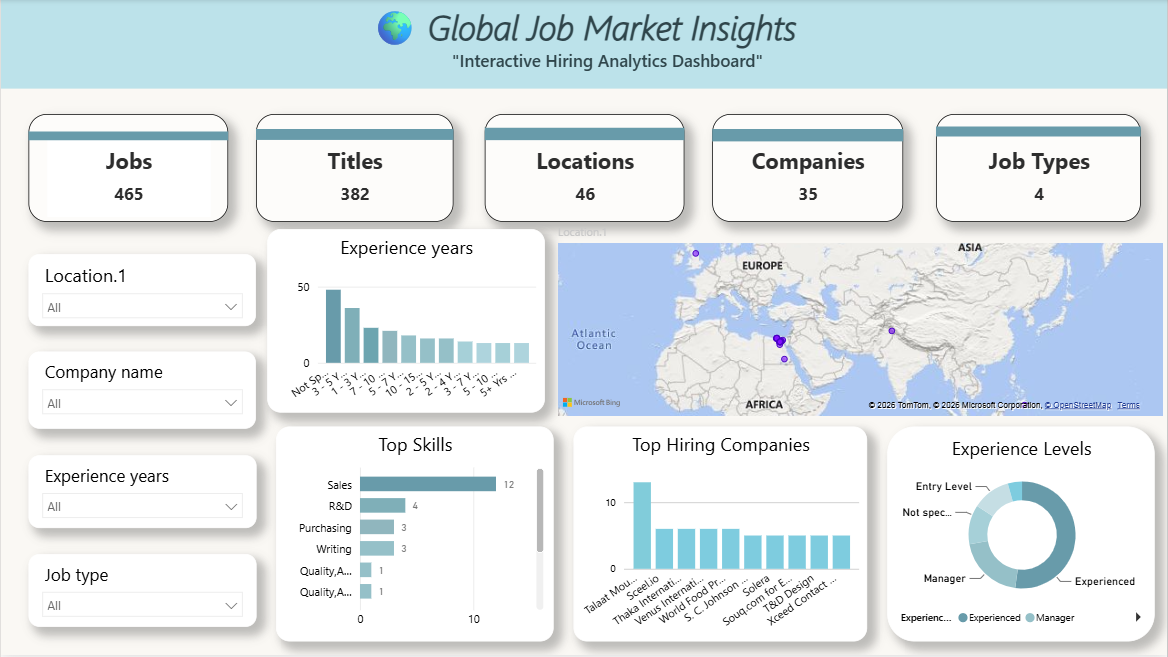

The dashboard page shown, as its layout file describes it:
{"tool":"powerbi","page":{"name":"Page 2","canvas":[1280,720],"ordinal":1},"visuals":[{"type":"cardVisual","fields":{"Data":["cleaned_dataset.Jobs","cleaned_dataset.Jobs"]},"box":[30.2,126.2,219.6,118],"z":2000},{"type":"cardVisual","fields":{"Data":["cleaned_dataset.Total Job Titles"]},"box":[279.9,126.2,216.8,118],"z":3000},{"type":"cardVisual","fields":{"Data":["cleaned_dataset.Total Locations"]},"box":[531,126.2,219.6,118],"z":4000},{"type":"cardVisual","fields":{"Data":["cleaned_dataset.Total Companies"]},"box":[780.8,126.2,209.9,118],"z":5000},{"type":"cardVisual","fields":{"Data":["cleaned_dataset.Total Job Types"]},"box":[1026.4,126.2,225,118],"z":6000},{"type":"shape","box":[30.2,145.5,219.6,9.6],"z":7000},{"type":"shape","box":[279.9,142.7,216.8,12.3],"z":8000},{"type":"shape","box":[531,141.3,219.6,13.7],"z":9000},{"type":"shape","box":[780.8,142.7,209.9,13.7],"z":10000},{"type":"shape","box":[1026.4,140,225,11],"z":11000},{"type":"slicer","fields":{"Values":["cleaned_dataset.Company name"]},"box":[30.2,387,249.7,85.1],"z":12000},{"type":"slicer","fields":{"Values":["cleaned_dataset.Location.1"]},"box":[30.2,279.9,249.7,79.6],"z":13000},{"type":"slicer","fields":{"Values":["cleaned_dataset.Job type"]},"box":[30.2,609.3,250,80.2],"z":14000},{"type":"slicer","fields":{"Values":["cleaned_dataset.Experience years"]},"box":[30.2,501.2,250,80.2],"z":15000},{"type":"columnChart","title":"Top Hiring Companies","fields":{"Category":["cleaned_dataset.Company name"],"Y":["CountNonNull(cleaned_dataset.Job type)"]},"box":[628.5,469.3,322.5,236],"z":16000},{"type":"lineClusteredColumnComboChart","title":" Experience years","fields":{"Category":["cleaned_dataset.Experience years"],"Y":["cleaned_dataset.Total Job Titles"]},"box":[292.3,252.5,304.6,201.7],"z":17000},{"type":"barChart","title":"Top Skills","fields":{"Category":["cleaned_dataset.Skills.1"],"Y":["cleaned_dataset.Total Job Titles"]},"box":[301.9,469.3,304.6,236],"z":18000},{"type":"donutChart","title":"Experience Levels","fields":{"Category":["cleaned_dataset.Experience Level"],"Y":["cleaned_dataset.Total Jobs"]},"box":[972.9,469.3,293.7,236],"z":19000},{"type":"map","fields":{"Category":["cleaned_dataset.Location.1"]},"box":[606.5,247,673.8,215.4],"z":19001},{"type":"textbox","box":[0,0,1280.3,98.8],"z":19002}]}

Visuals, with their boxes in screenshot pixels (x1, y1, x2, y2), scaled from the page's 1280x720 canvas onto the 1168x657 screenshot:
cardVisual - cleaned_dataset.Jobs x cleaned_dataset.Jobs: box(28, 115, 228, 223)
cardVisual - cleaned_dataset.Total Job Titles: box(255, 115, 453, 223)
cardVisual - cleaned_dataset.Total Locations: box(485, 115, 685, 223)
cardVisual - cleaned_dataset.Total Companies: box(712, 115, 904, 223)
cardVisual - cleaned_dataset.Total Job Types: box(937, 115, 1142, 223)
shape: box(28, 133, 228, 142)
shape: box(255, 130, 453, 141)
shape: box(485, 129, 685, 141)
shape: box(712, 130, 904, 143)
shape: box(937, 128, 1142, 138)
slicer - cleaned_dataset.Company name: box(28, 353, 255, 431)
slicer - cleaned_dataset.Location.1: box(28, 255, 255, 328)
slicer - cleaned_dataset.Job type: box(28, 556, 256, 629)
slicer - cleaned_dataset.Experience years: box(28, 457, 256, 531)
"Top Hiring Companies" columnChart: box(574, 428, 868, 644)
" Experience years" lineClusteredColumnComboChart: box(267, 230, 545, 414)
"Top Skills" barChart: box(275, 428, 553, 644)
"Experience Levels" donutChart: box(888, 428, 1156, 644)
map - cleaned_dataset.Location.1: box(553, 225, 1167, 422)
textbox: box(0, 0, 1167, 90)
